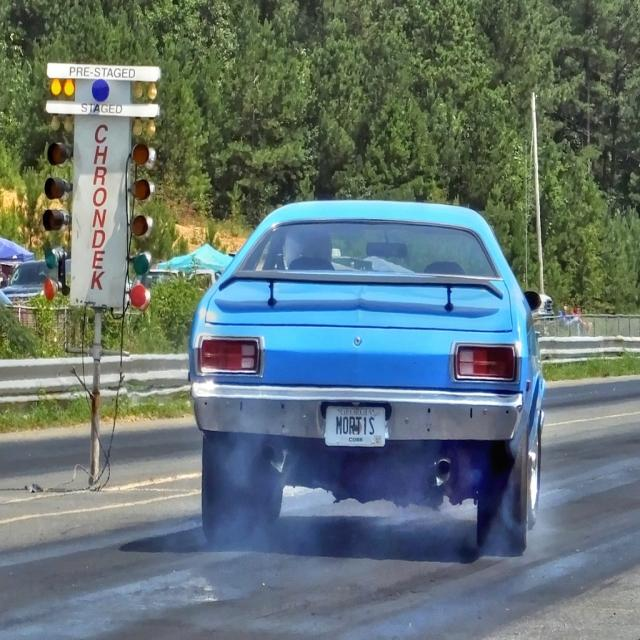car: (177, 185, 538, 554)
